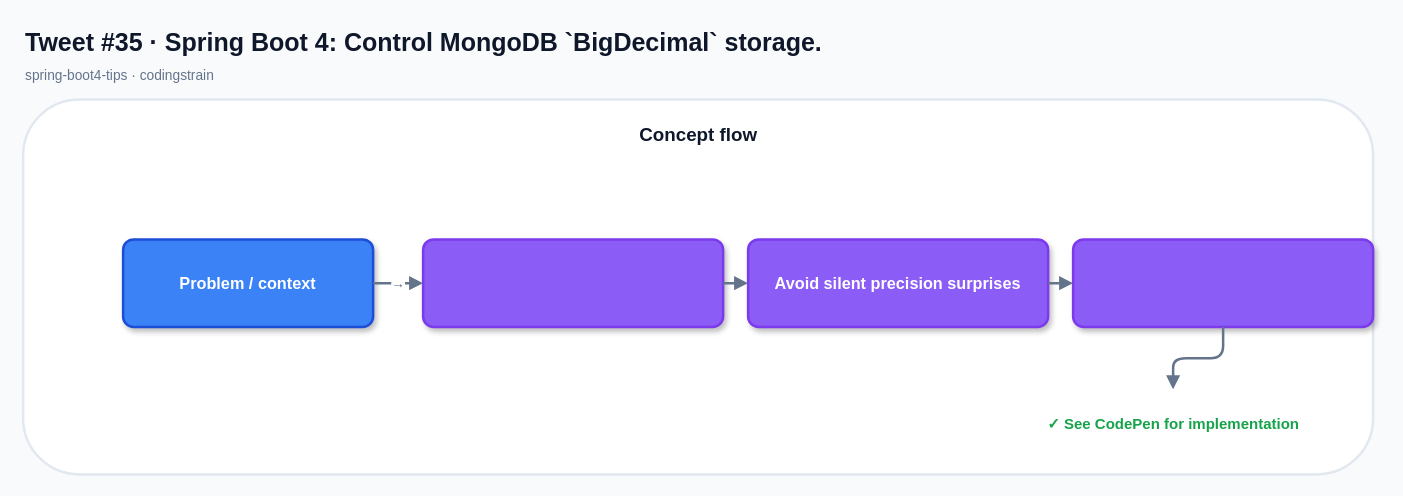
Some shapes in this 1403 by 496 pixel diagram are drawn without their labels. Each missing label, with the centre of its shape:
"`spring.data.mongodb.representation.big-decimal`" belongs at pixel 573 284.
"Pick decimal128 vs string explicitly" belongs at pixel 1223 284.
